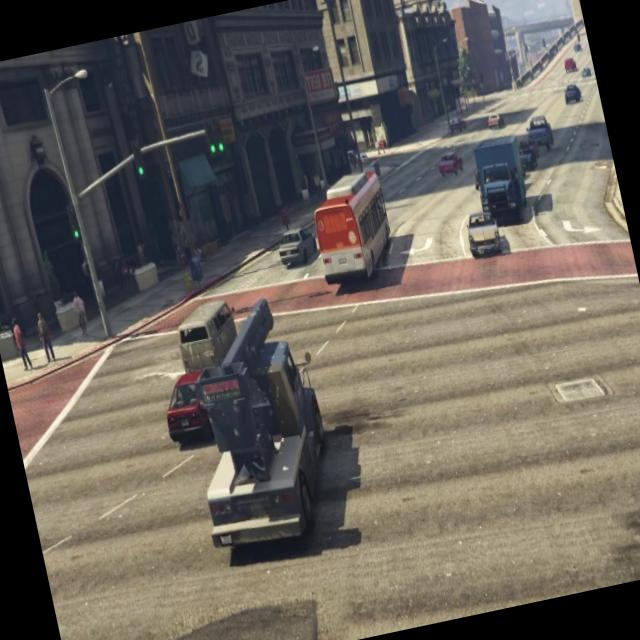Green-Signal: (192, 102, 236, 184), (55, 192, 93, 262), (120, 130, 154, 198)
